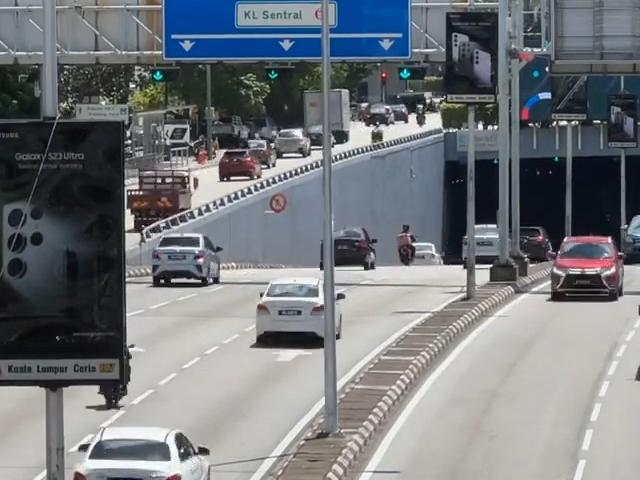car: (73, 416, 218, 480), (253, 277, 350, 358), (545, 217, 628, 308), (147, 223, 225, 290), (323, 229, 374, 270), (462, 223, 506, 266), (218, 151, 262, 182), (519, 226, 554, 264), (274, 128, 309, 159), (621, 212, 640, 262), (246, 138, 276, 167), (405, 241, 441, 265), (366, 105, 394, 126), (307, 125, 328, 147)
motorcycle: (396, 226, 417, 269)
truck: (126, 169, 195, 227), (303, 87, 352, 145)
